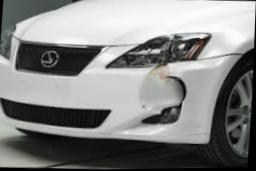Bumper: (127, 73, 197, 136)
